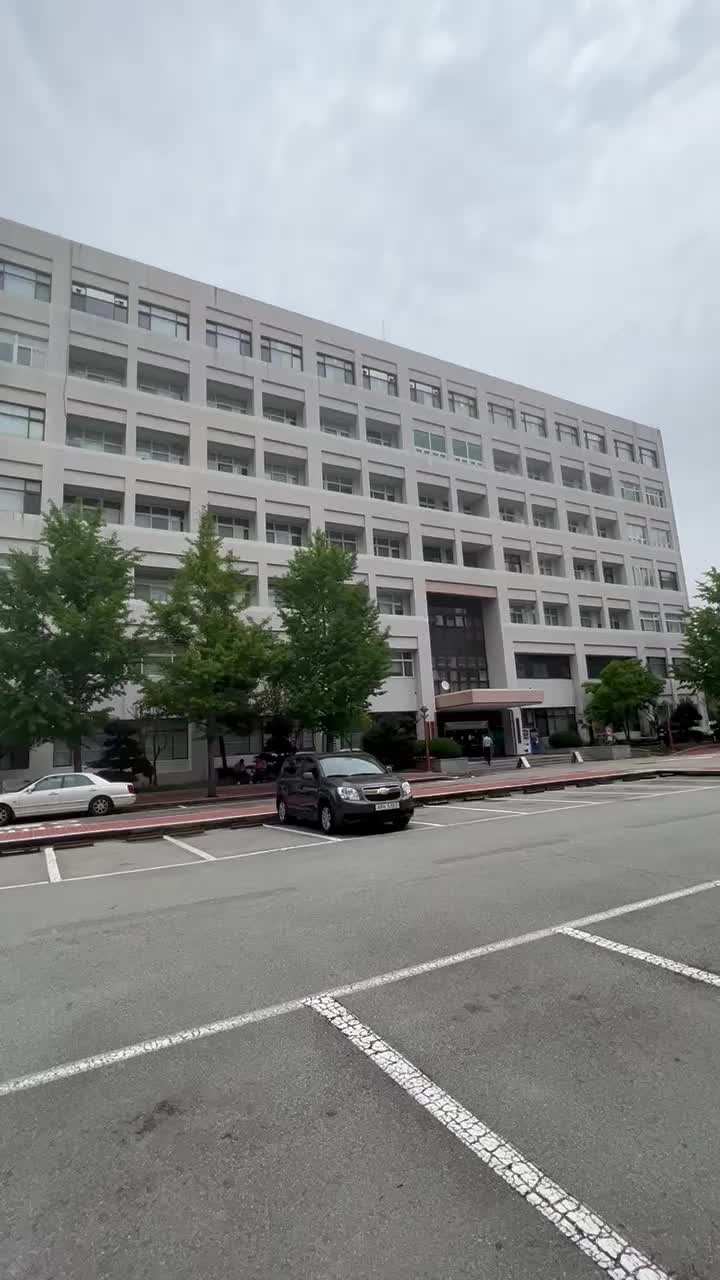low: (46, 328, 680, 574)
